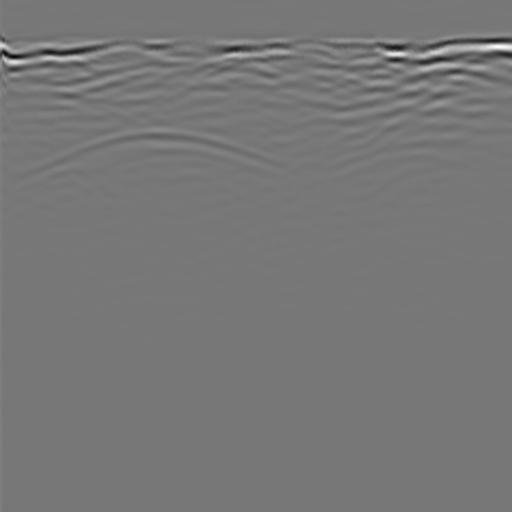hyperbola: (11, 111, 303, 210)
